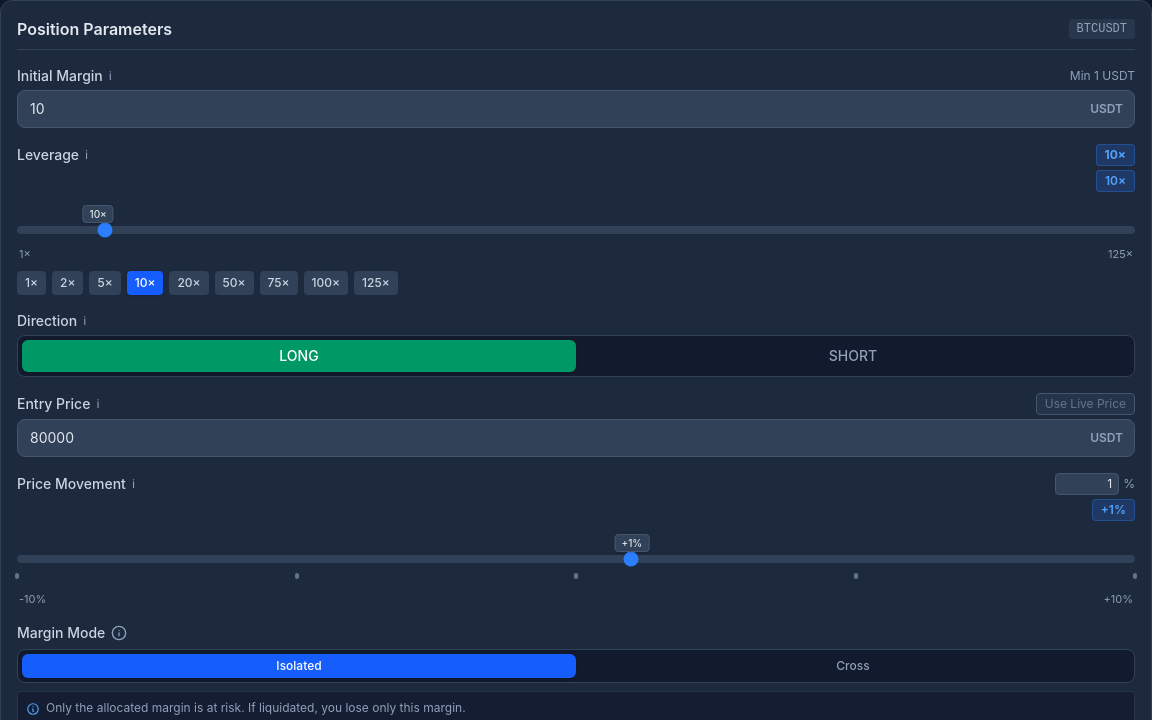
Test: TradingControls › resets controls to default values on reset button click
Replace the text in the number field labelled "Initial Margin" with "99": (576,109) left=17, top=90, right=1135, bottom=128
(page scrolled)
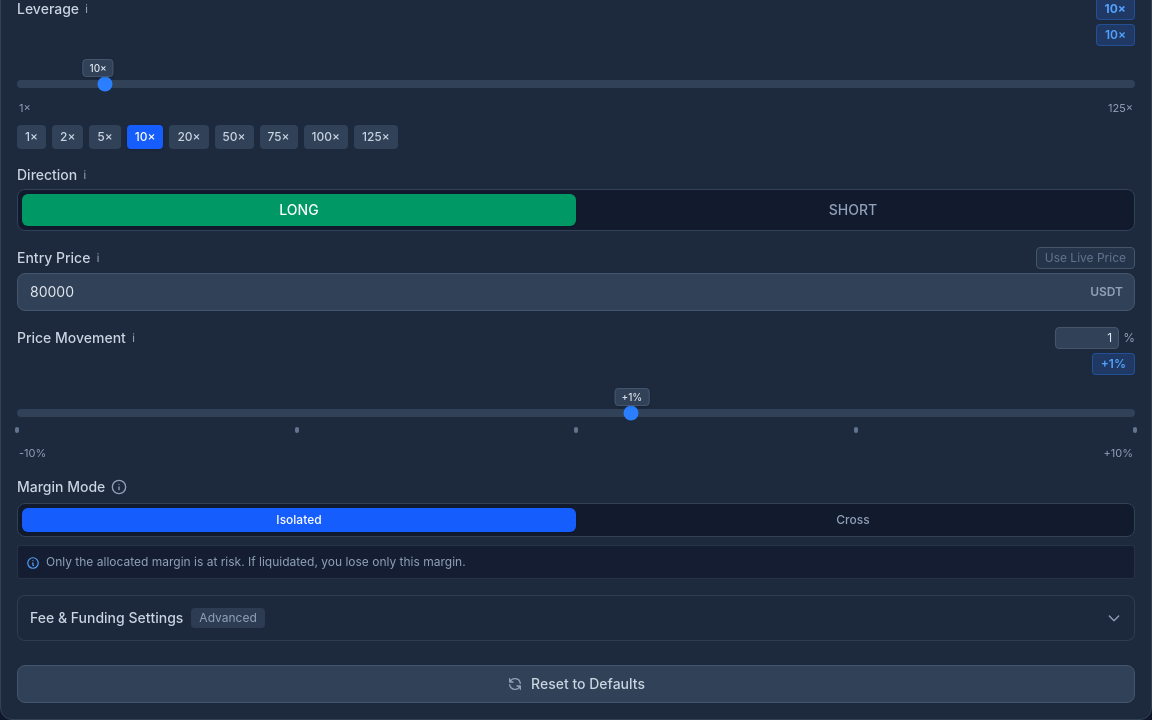
Click the button "Reset to Defaults": (576,684) left=17, top=665, right=1135, bottom=703
(page scrolled)
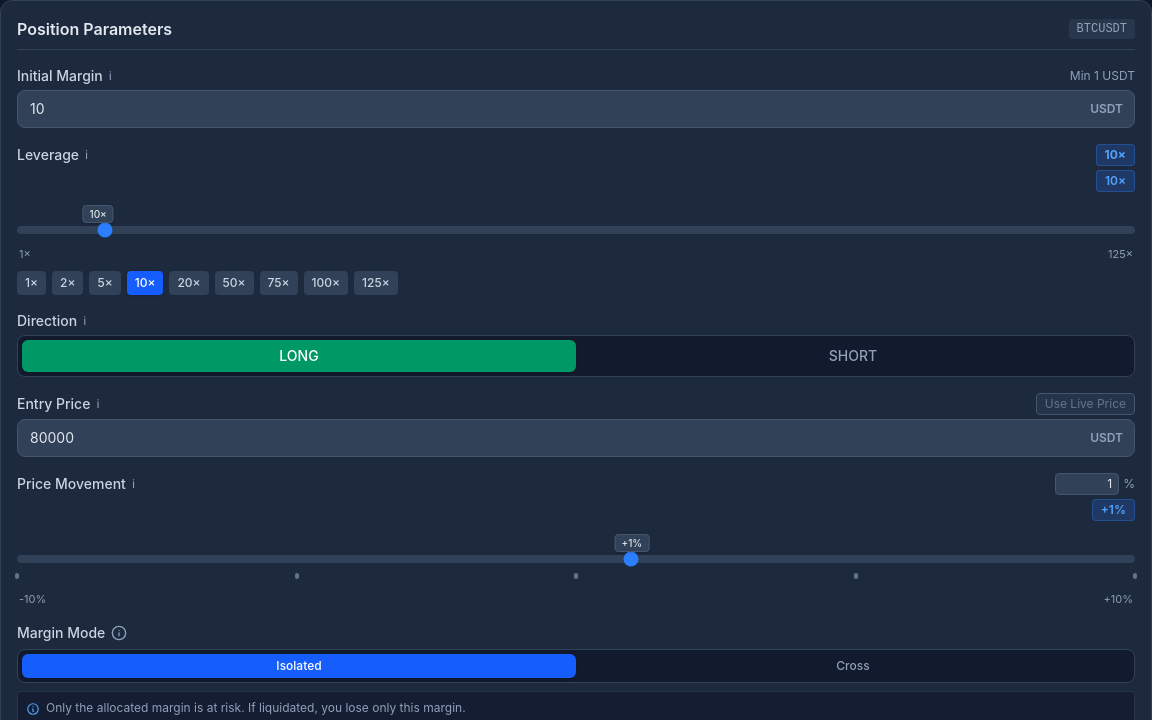
Expected: the number field labelled "Initial Margin" holds "10", left=17, top=90, right=1135, bottom=128
